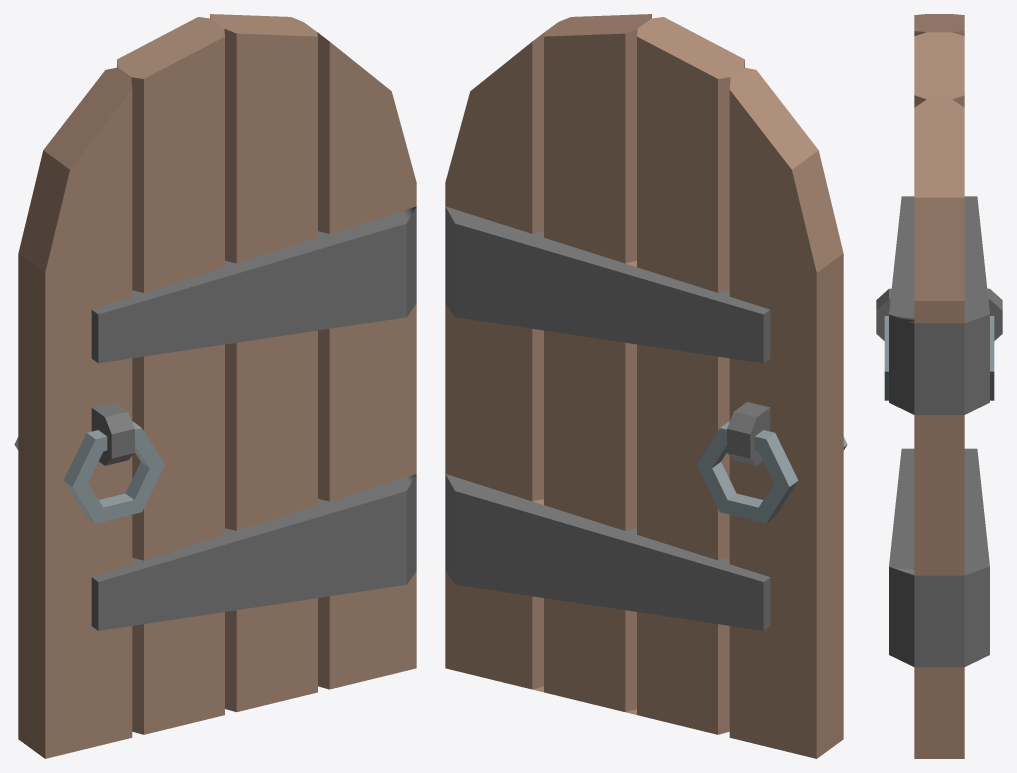
The model's file is Door.fbx.
The picture shows the model from 3 angles, left to right: view 1: azimuth 30°, elevation 25°; view 2: azimuth 150°, elevation 25°; view 3: azimuth 270°, elevation 25°; orthographic projection. The views are drawn at different scales.
Visible parts, largest first — view 1: Door; view 2: Door; view 3: Door.
Boxes of the visible parts, x1=… form: Door: x1=14, y1=14, x2=416, y2=758; Door: x1=445, y1=14, x2=847, y2=758; Door: x1=876, y1=14, x2=1002, y2=758.
Bounding box in the file's own units: 110 × 193 × 34.5.
